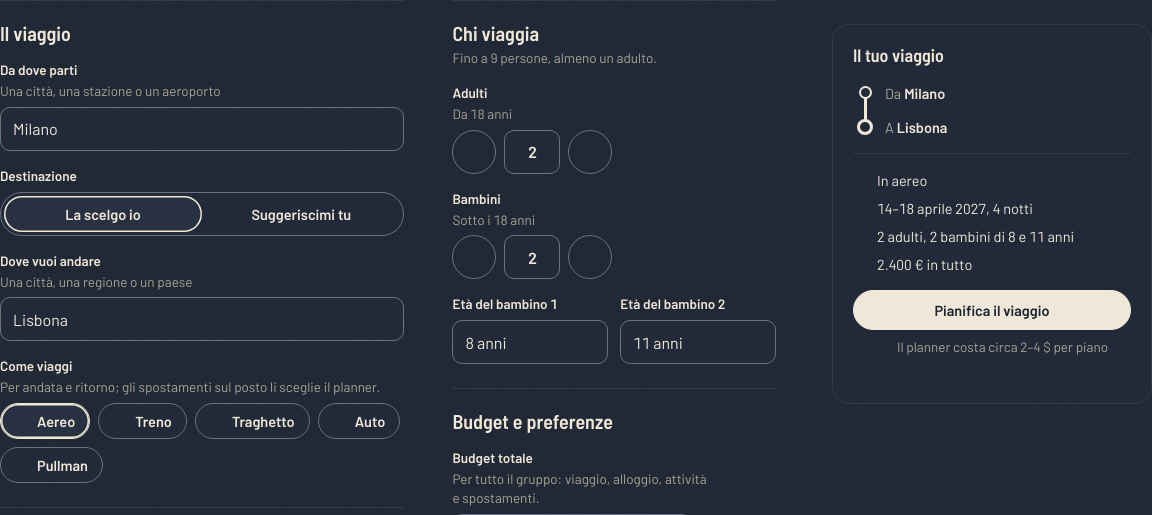
Test case: RequestForm › names the chosen mode first in the trip's summary, the plane included
Click the radio button labelled "Traghetto".
click(252, 421)  # box [195,403,310,439]
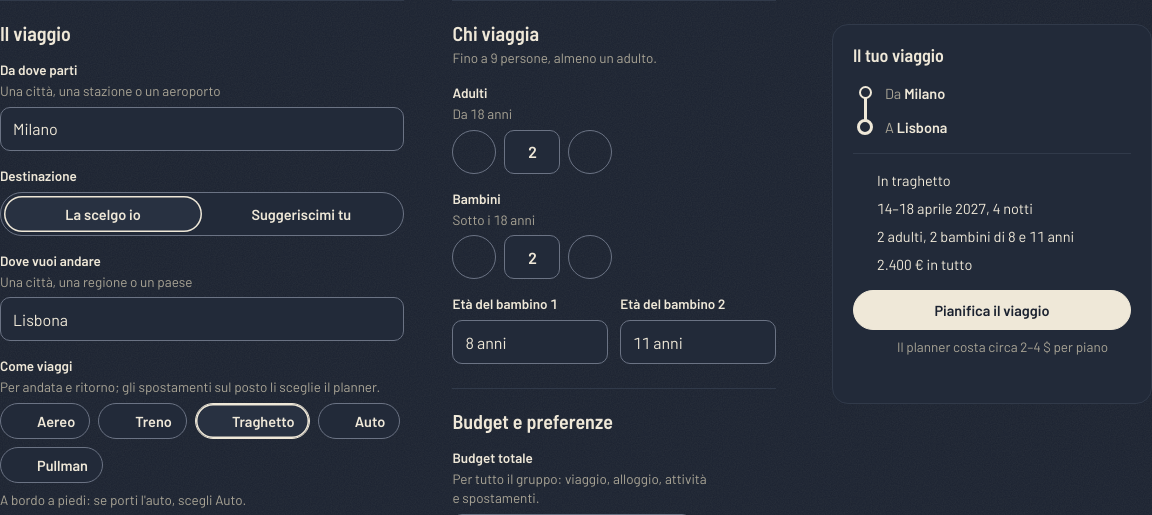
Check: the text "In traghetto" is shown, box [877,170,951,190]
